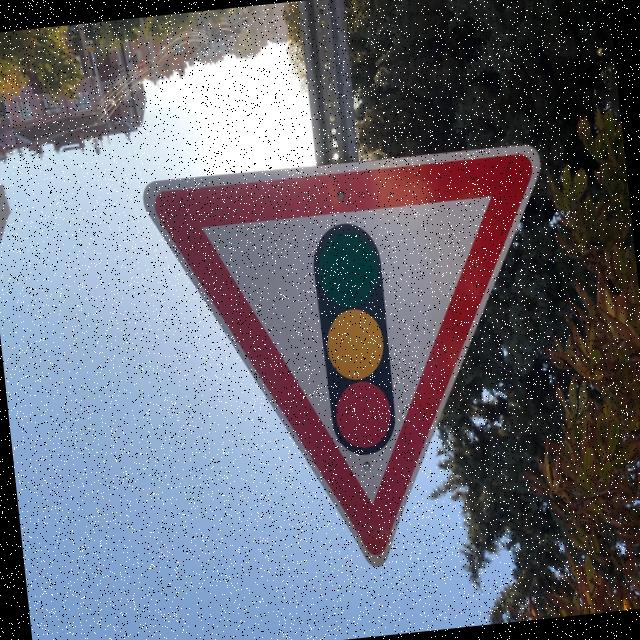light_traffic: (140, 132, 583, 602)
